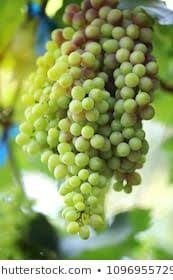grapes: (25, 9, 163, 240)
